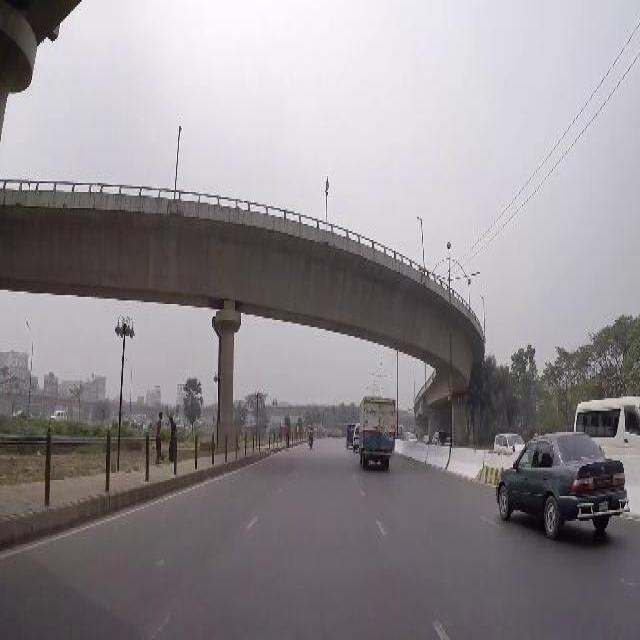car: (493, 427, 630, 542), (407, 432, 417, 441)
motorcycle: (307, 421, 313, 448)
truck: (572, 393, 638, 446), (359, 397, 395, 468), (493, 431, 525, 454), (431, 428, 454, 446), (345, 422, 354, 446)
